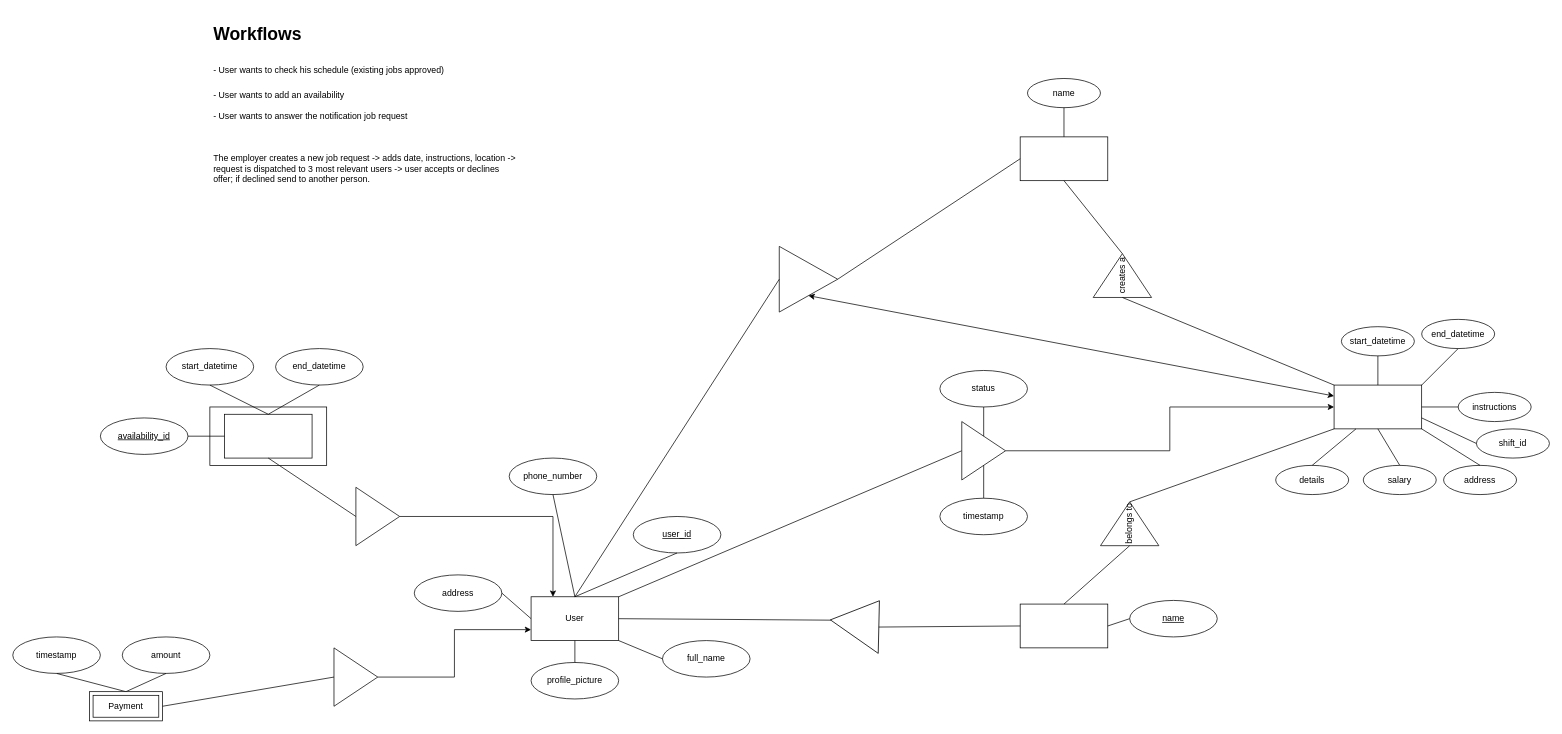
This 1562x734 diagram has some shape labels left out. Here are the shapes that lost their labels. From the top down, the box of each, then its label:
(1019, 136, 1108, 181): Company
(779, 246, 838, 312): chats with/about
(1333, 384, 1422, 429): Shift
(224, 414, 312, 458): Availability
(961, 421, 1006, 480): dispatched to
(355, 487, 400, 546): has
(829, 583, 903, 653): is interested in
(1019, 603, 1108, 648): Job_type
(333, 647, 378, 706): receives
